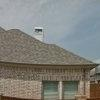Chimney: (31, 21, 56, 52)
